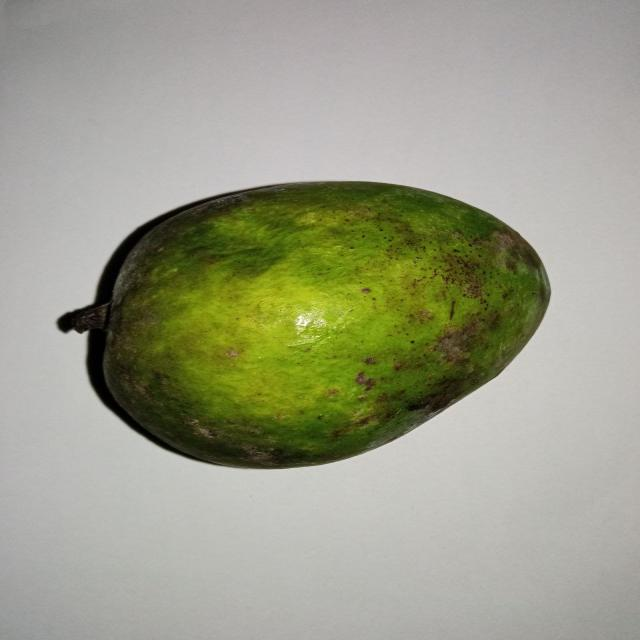rotten_mango: (78, 181, 550, 465)
